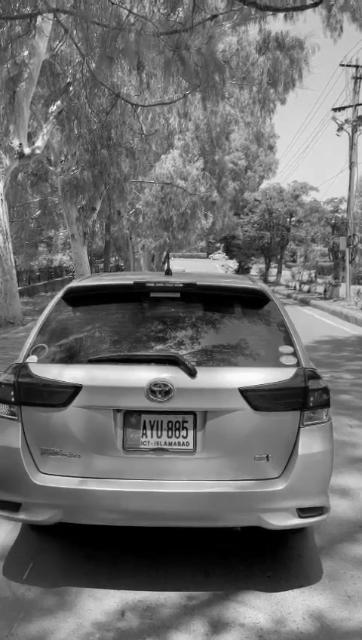Number: (142, 420, 190, 440)
